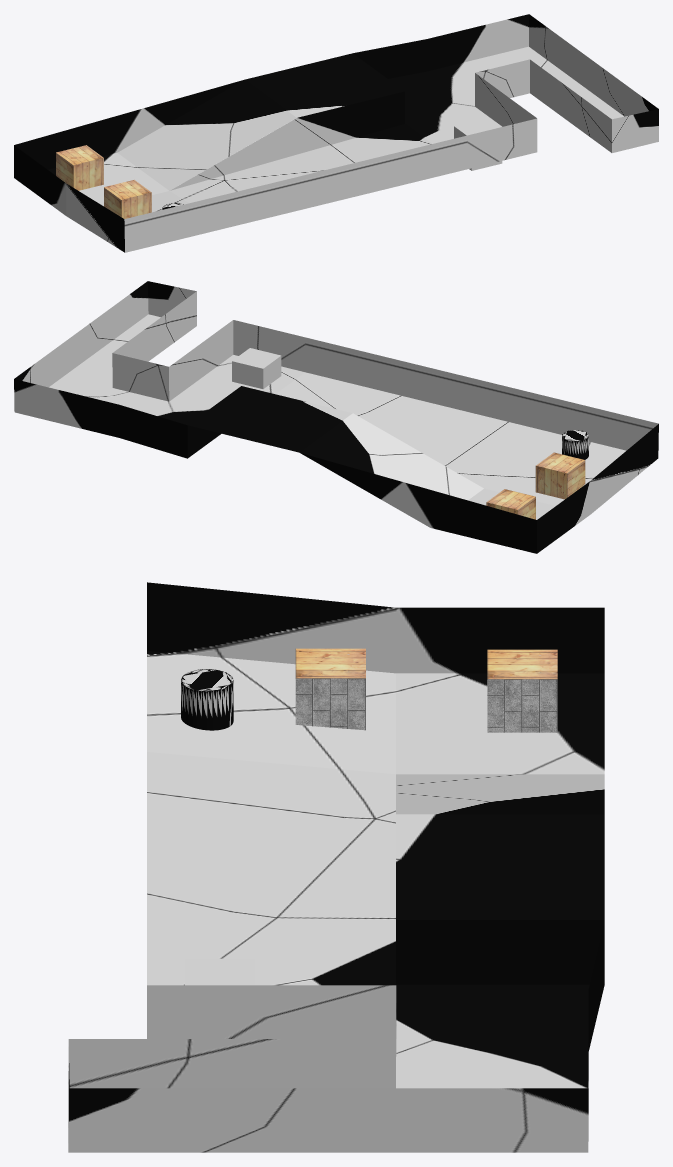
Rendered from Stage4.fbx.
The picture shows the model from 3 angles, top to bottom: view 1: azimuth 30°, elevation 25°; view 2: azimuth 150°, elevation 25°; view 3: azimuth 270°, elevation 25°; orthographic projection. The views are drawn at different scales.
Parts seen in each view (by area): view 1: Plane, Cube.001, Cube, Cube.002; view 2: Plane, Cube, Cube.002, Cube.001; view 3: Plane, Cube.001, Cube, Cube.002.
Boxes of the visible parts, x1,y1,x2,y2 form: Plane: (14,14,658,252); Cube.001: (56,145,103,190); Cube: (104,179,151,218); Cube.002: (454,119,502,170); Plane: (14,281,658,553); Cube: (535,452,585,499); Cube.002: (232,348,281,388); Cube.001: (486,489,535,519); Plane: (68,582,604,1152); Cube.001: (487,649,557,732); Cube: (295,648,365,730); Cube.002: (185,958,255,985).
Bounding box in the file's own units: 67.64 × 6.12 × 30.49.
